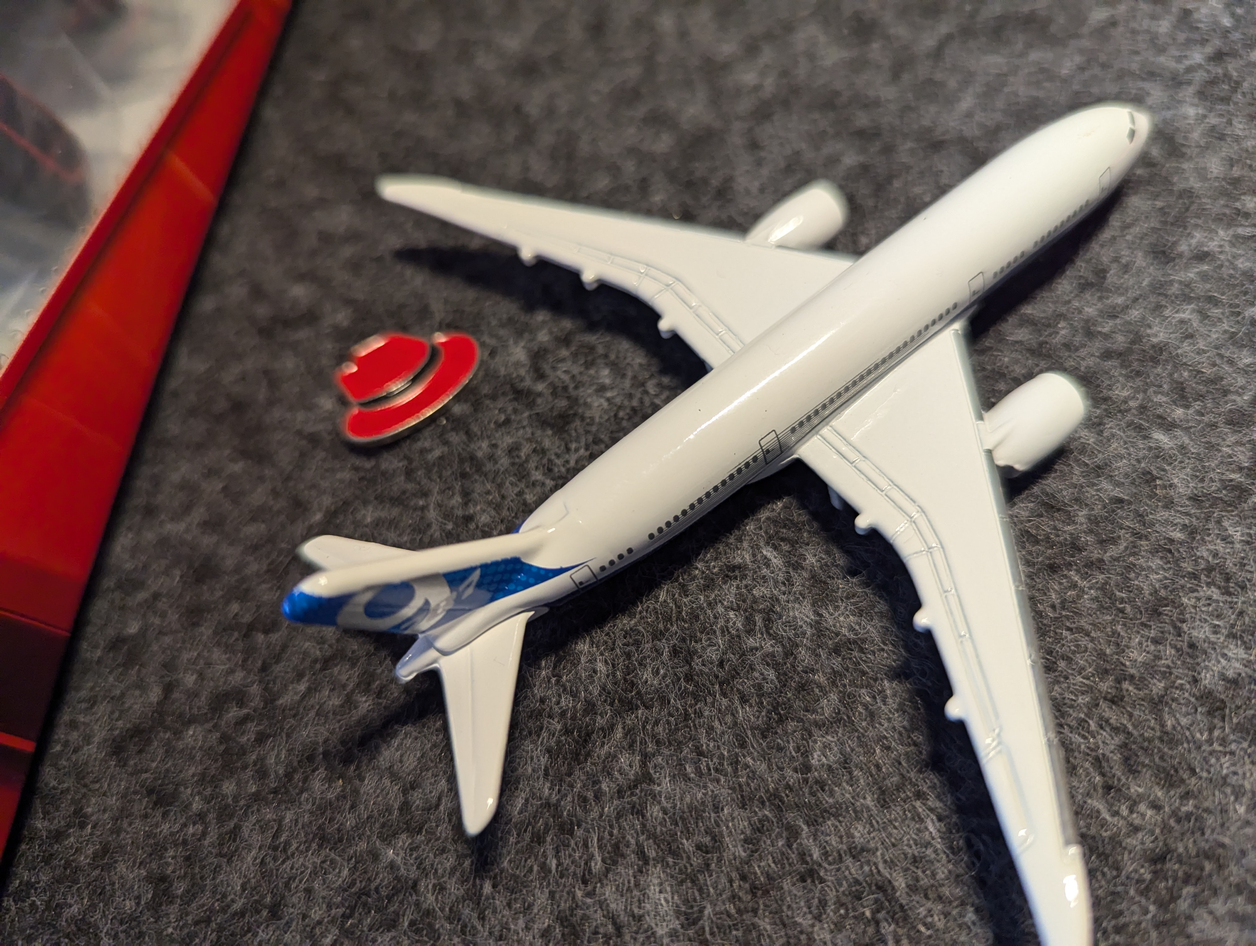Airplane: (271, 29, 1189, 946)
Red-Hat: (311, 302, 507, 466)
